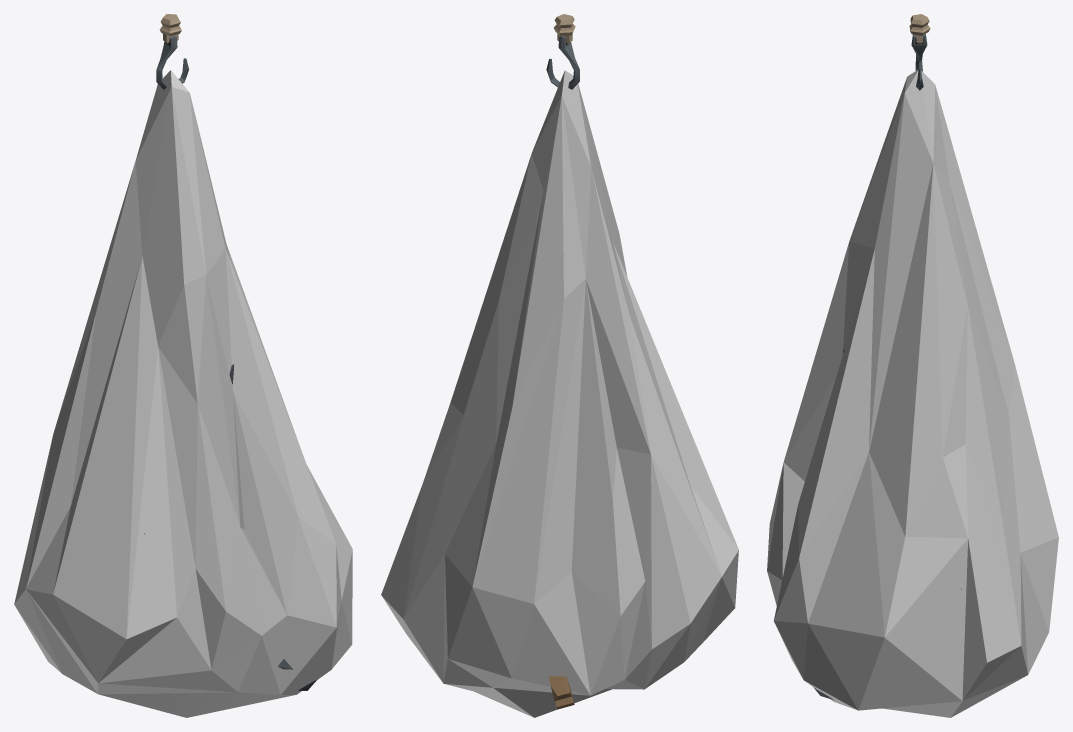
The model's file is SM_Prop_Net_03.fbx.
The picture shows the model from 3 angles, left to right: view 1: azimuth 30°, elevation 25°; view 2: azimuth 150°, elevation 25°; view 3: azimuth 270°, elevation 25°; orthographic projection. The views are drawn at different scales.
Parts seen in each view (by area): view 1: SM_Prop_Net_03; view 2: SM_Prop_Net_03; view 3: SM_Prop_Net_03.
Part boxes in pixels (x1,y1,x2,y2): SM_Prop_Net_03: (14,14,352,717); SM_Prop_Net_03: (381,14,738,717); SM_Prop_Net_03: (767,14,1058,717).
Bounding box in the file's own units: 152 × 318 × 125.
